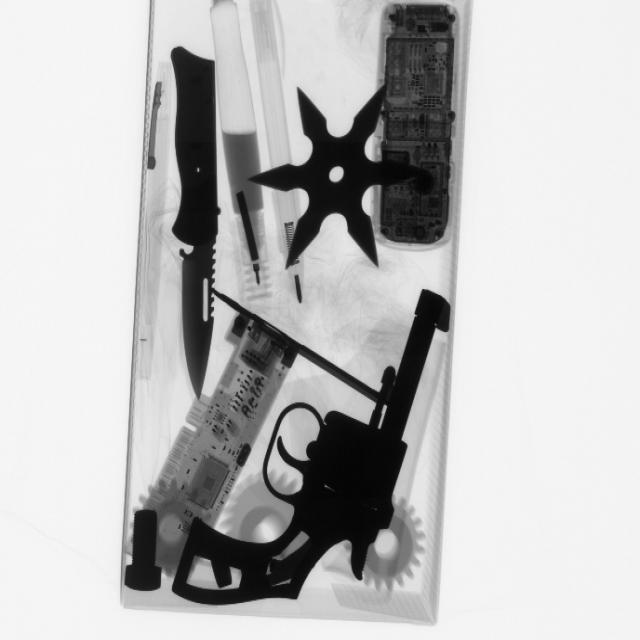GUN: (169, 285, 451, 612)
KNIFE: (163, 51, 235, 387)
SHURIKEN: (254, 76, 424, 271)
